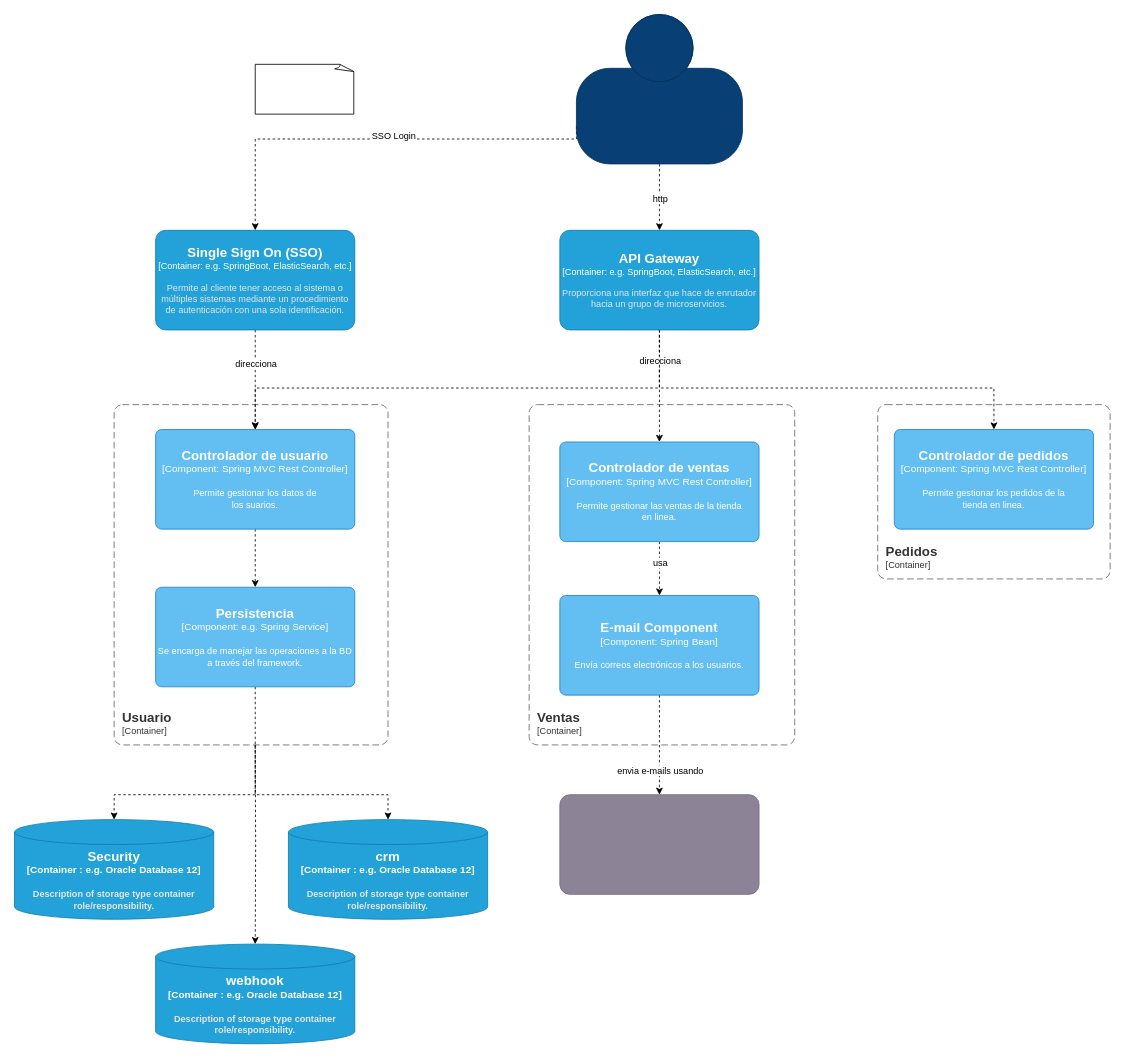
Some shapes in this 1125 by 1058 pixel diagram are drawn without their labels. The centre of each missing label's shape, as x and y in pixels:
Cliente [Person] Cliente que realiza pedidos a la aplicación web.: (x=659, y=89)
E-mail System [Software System] The internal Microsoft Exchange e-mail system: (x=659, y=844)
Pablo Serrano: (x=304, y=88)
